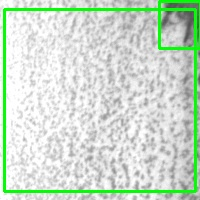patches: (159, 1, 200, 48)
pitted_surface: (4, 9, 195, 191)
